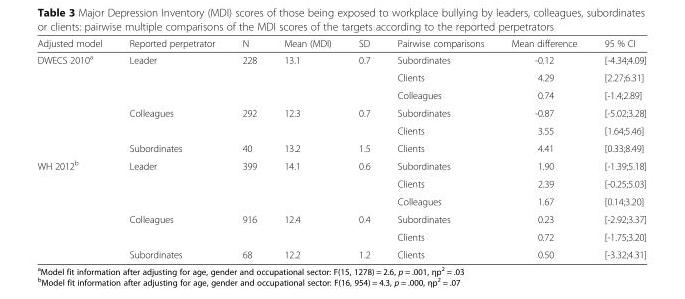table: (36, 37, 645, 259)
table column: (383, 37, 497, 259), (115, 37, 227, 259), (497, 37, 590, 259), (36, 37, 115, 259), (269, 37, 344, 259), (590, 37, 645, 259), (227, 37, 269, 259), (344, 37, 383, 259)
table column header: (36, 37, 645, 50)
table row: (36, 50, 645, 68), (36, 68, 645, 86), (36, 103, 645, 121), (36, 121, 645, 139), (36, 156, 645, 174), (36, 174, 645, 192), (36, 209, 645, 227), (36, 227, 645, 245), (36, 86, 645, 103), (36, 139, 645, 156), (36, 192, 645, 209), (36, 245, 645, 259), (36, 37, 645, 50)
table spanning cell: (36, 50, 115, 156), (36, 156, 115, 259)
